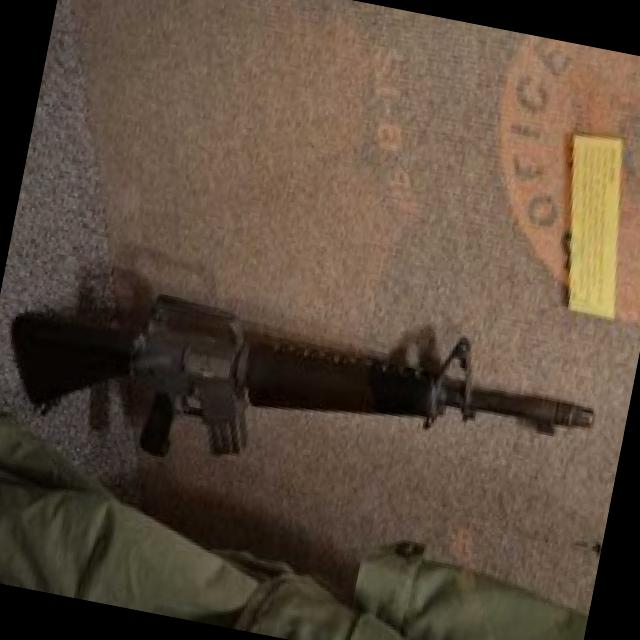long weapon: (0, 239, 610, 525)
